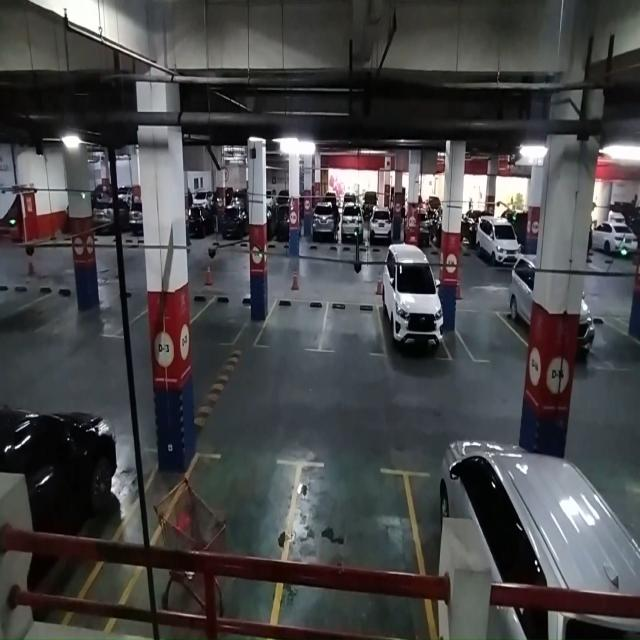empty: (286, 461, 420, 566), (455, 308, 525, 364), (259, 296, 324, 352), (324, 296, 382, 354), (196, 292, 249, 347)
occupied: (382, 276, 451, 360)
